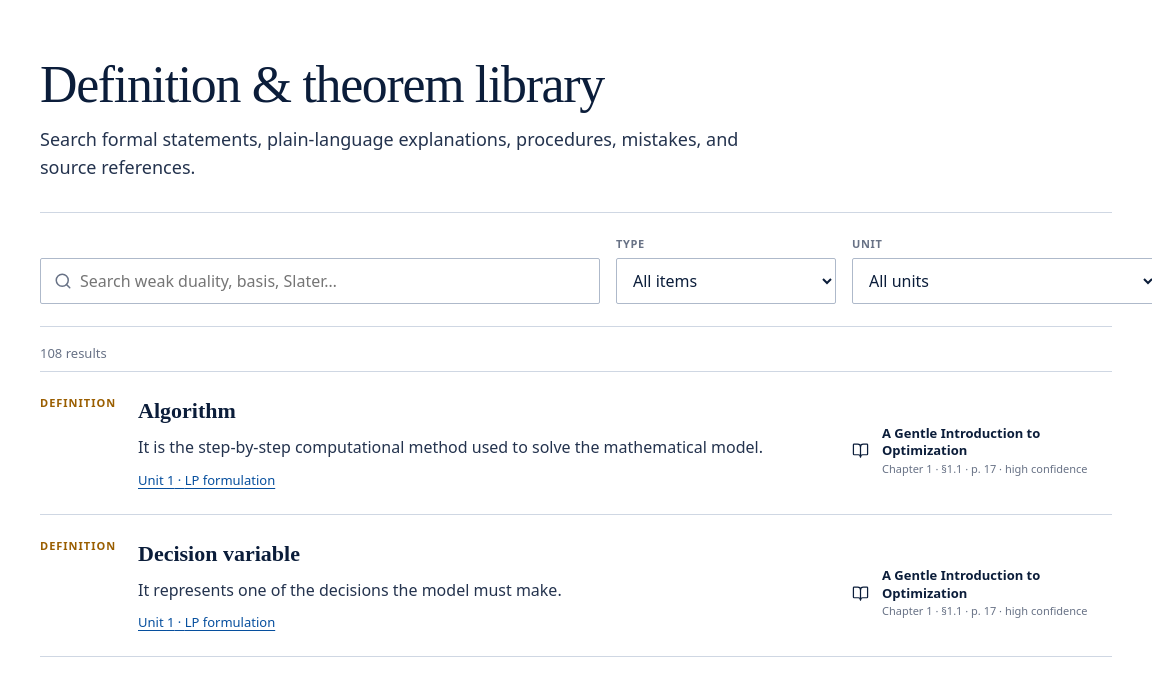
Test case: CO 250 Field Guide › normalizes common math notation in library search
In the field with placeholder "Search weak duality, basis, Slater…": {"x": 332, "y": 281} [78, 260, 586, 302], type "A^T"
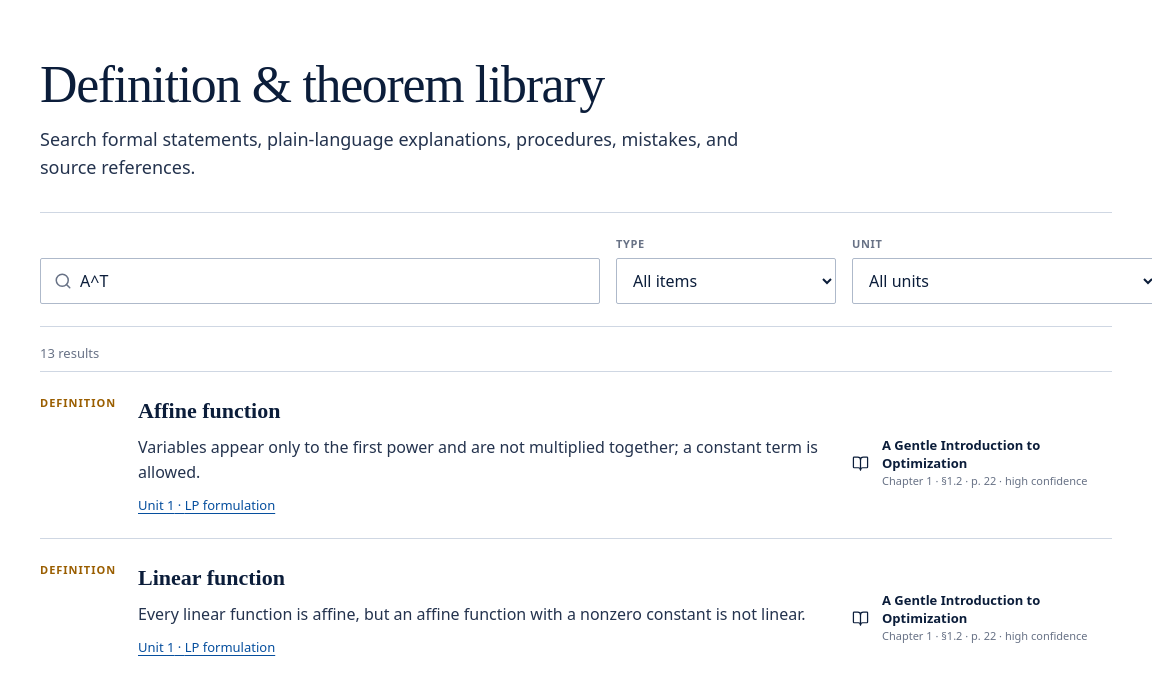
Replace the text in the field with placeholder "Search weak duality, basis, Slater…" with "Aᵀ": {"x": 332, "y": 281} [78, 260, 586, 302]
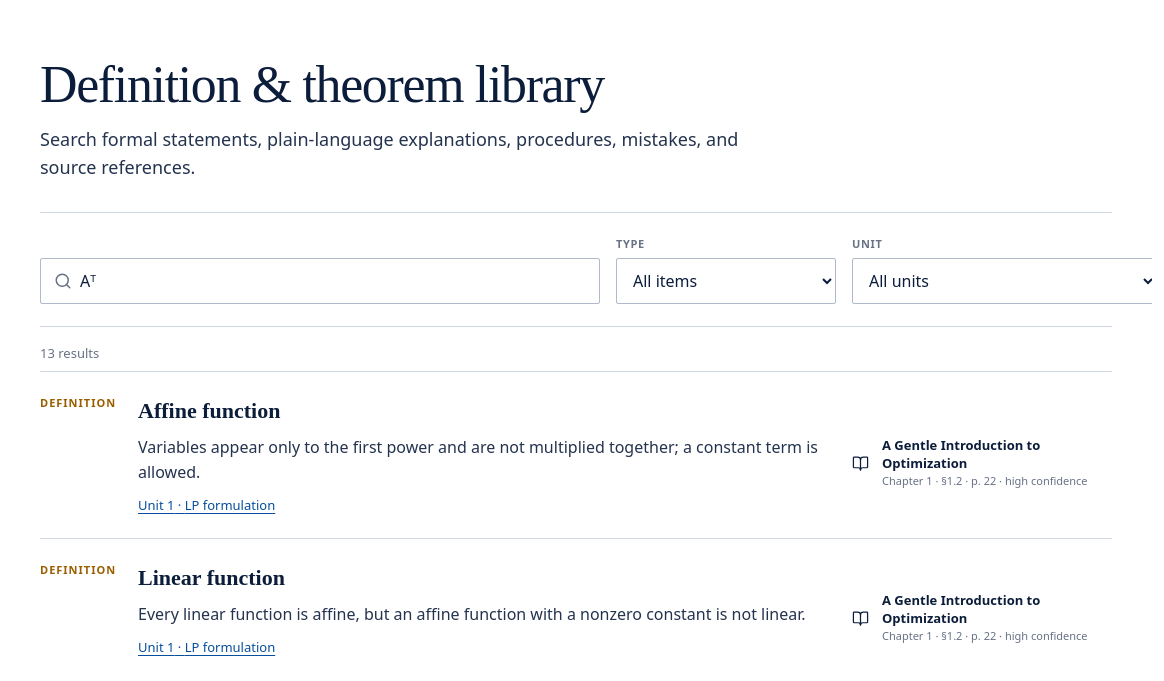
Replace the text in the field with placeholder "Search weak duality, basis, Slater…" with "transpose": {"x": 332, "y": 281} [78, 260, 586, 302]
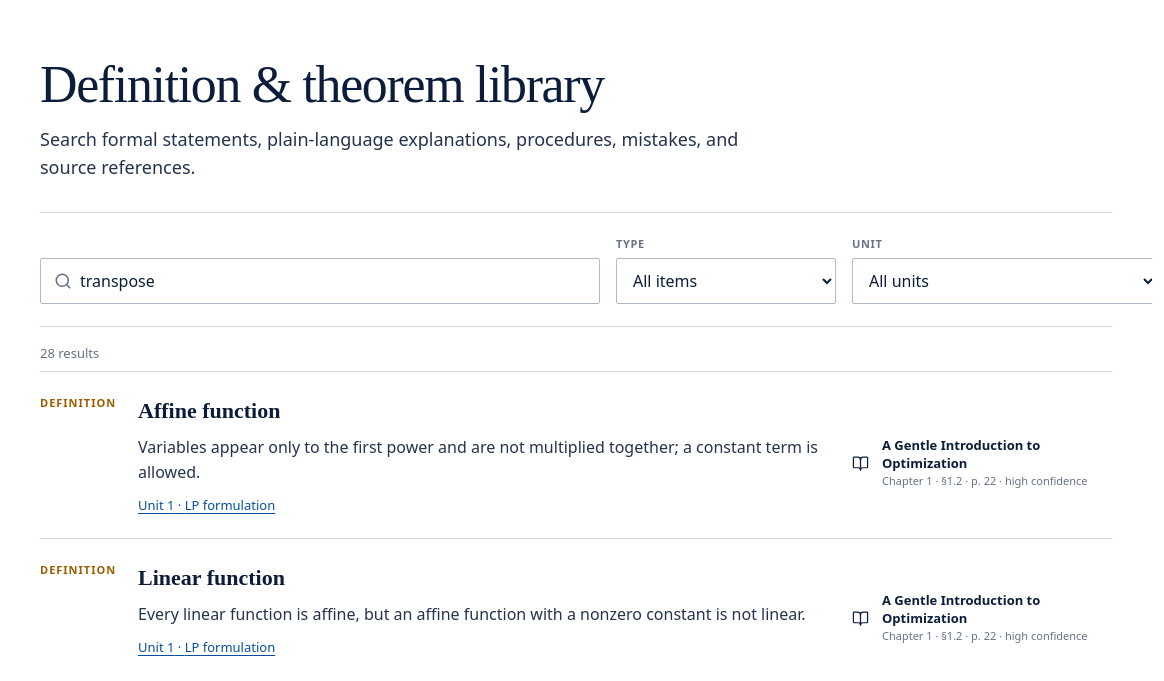
Replace the text in the field with placeholder "Search weak duality, basis, Slater…" with "BFS": {"x": 332, "y": 281} [78, 260, 586, 302]
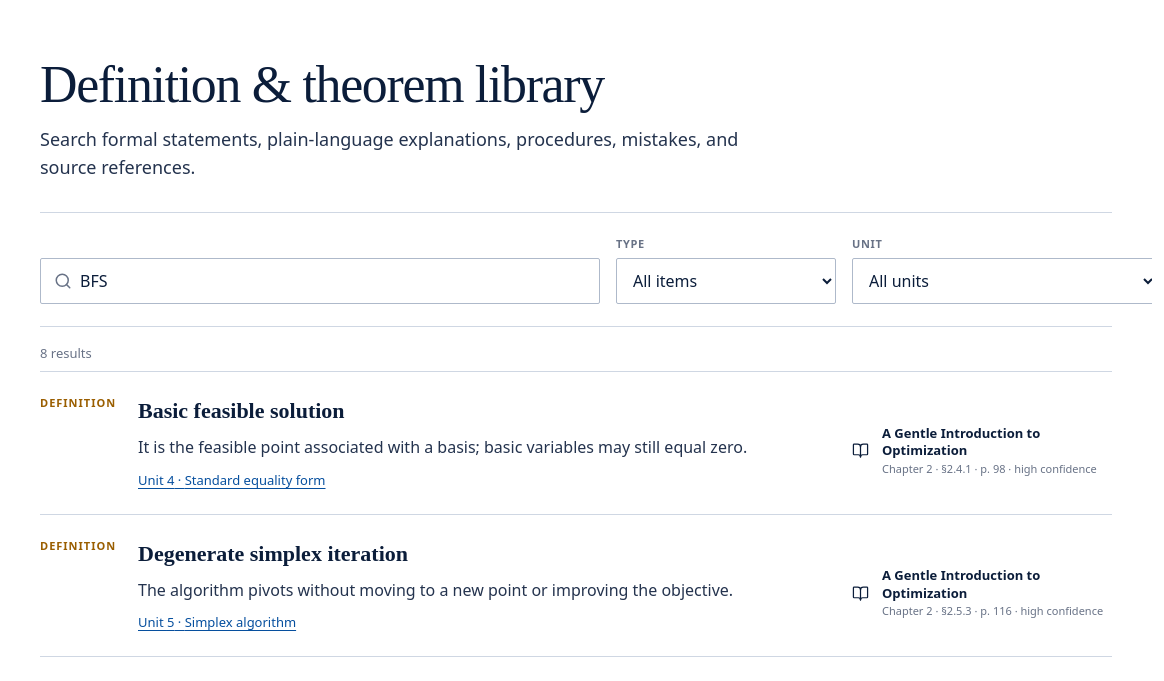
expect the heading "Basic feasible solution" is shown: met, box [138, 398, 345, 423]
Replace the text in the field with placeholder "Search weak duality, basis, Slater…" with "SEF": {"x": 332, "y": 281} [78, 260, 586, 302]
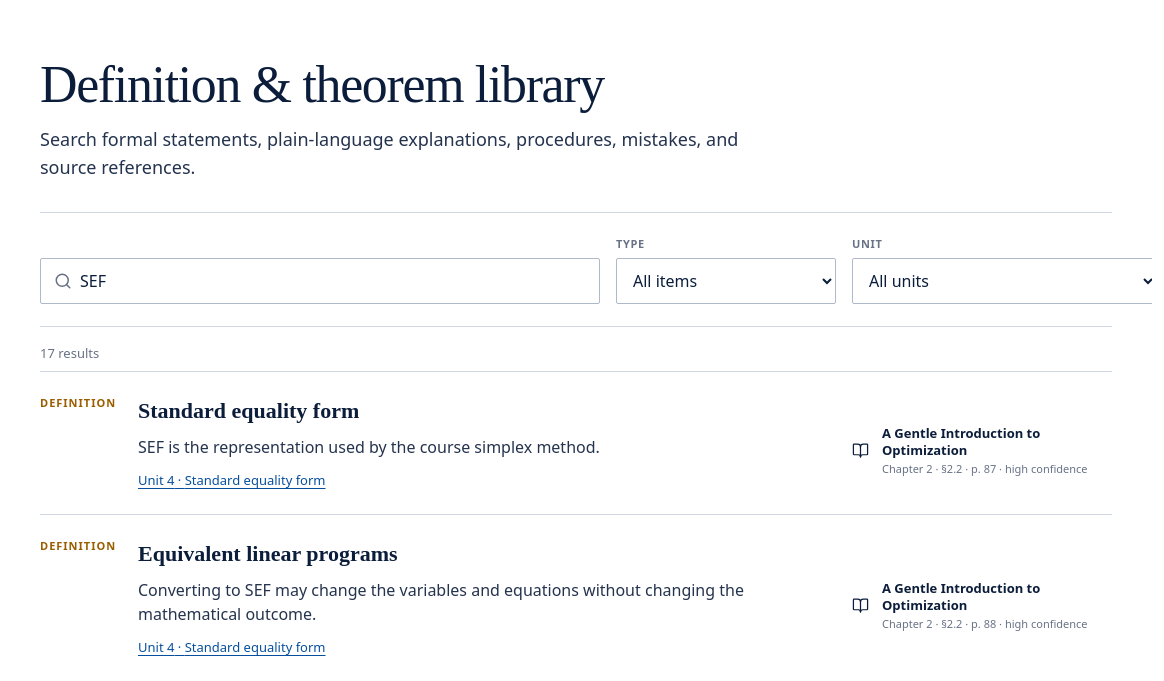
expect the heading "Standard equality form" is shown: met, box [138, 398, 359, 423]
